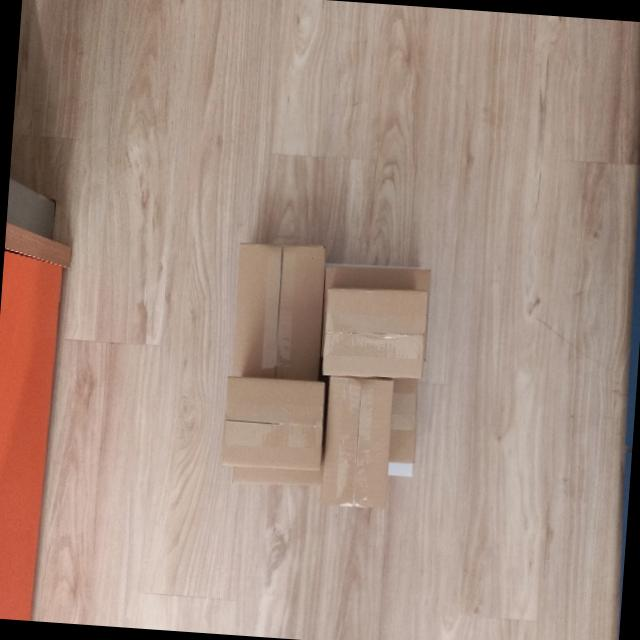box: (225, 234, 332, 382), (318, 278, 434, 384), (215, 371, 328, 475), (316, 374, 398, 512)
